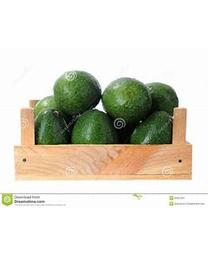avocado: (103, 79, 150, 126), (53, 72, 102, 112), (128, 114, 173, 146), (70, 114, 113, 145)
